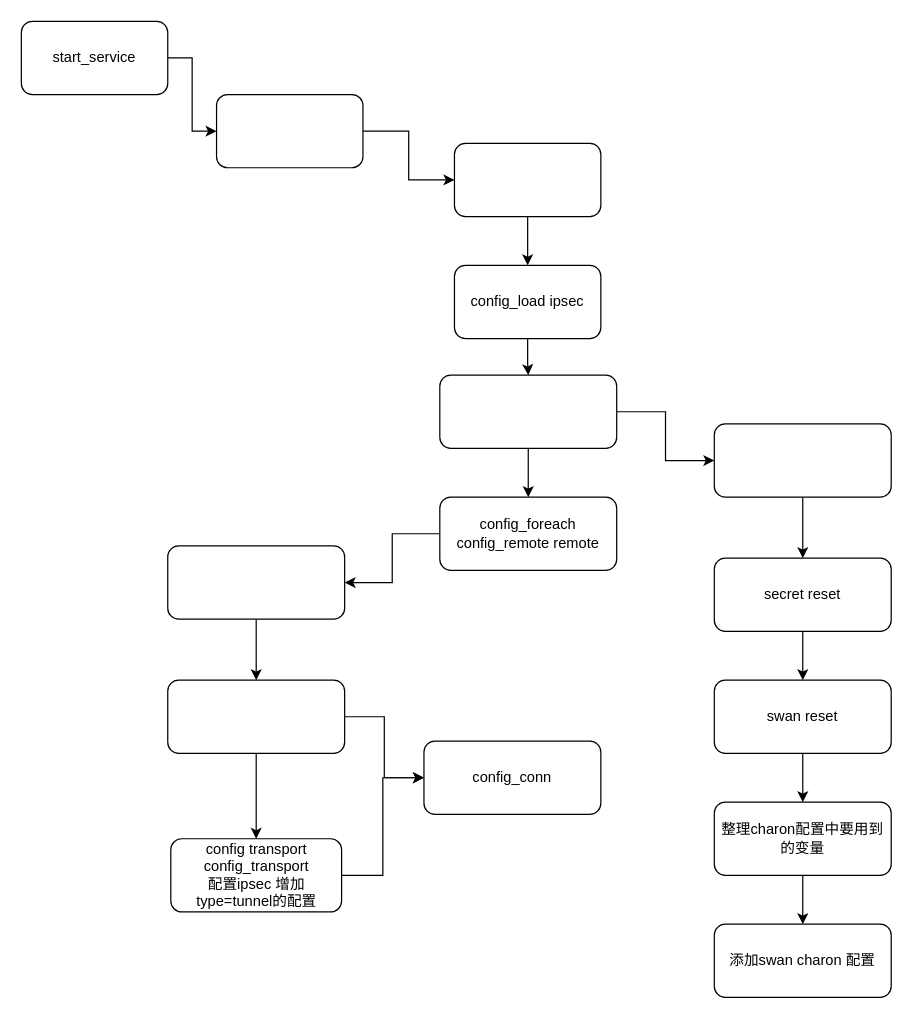
Some shapes in this 913 by 1019 pixel diagram are drawn without their labels. The box of each missing label's shape, as (x1, y1, x2, y2) in pixels:
config tunel config_tunnel 配置ipsec 增加type=tunnel的配置: (167, 679, 345, 753)
config_foreach config_ipsec ipsec: (439, 374, 617, 448)
ipsec reset: (713, 423, 891, 497)
prepare_env: (215, 93, 363, 168)
remove_includes: (453, 142, 601, 217)
